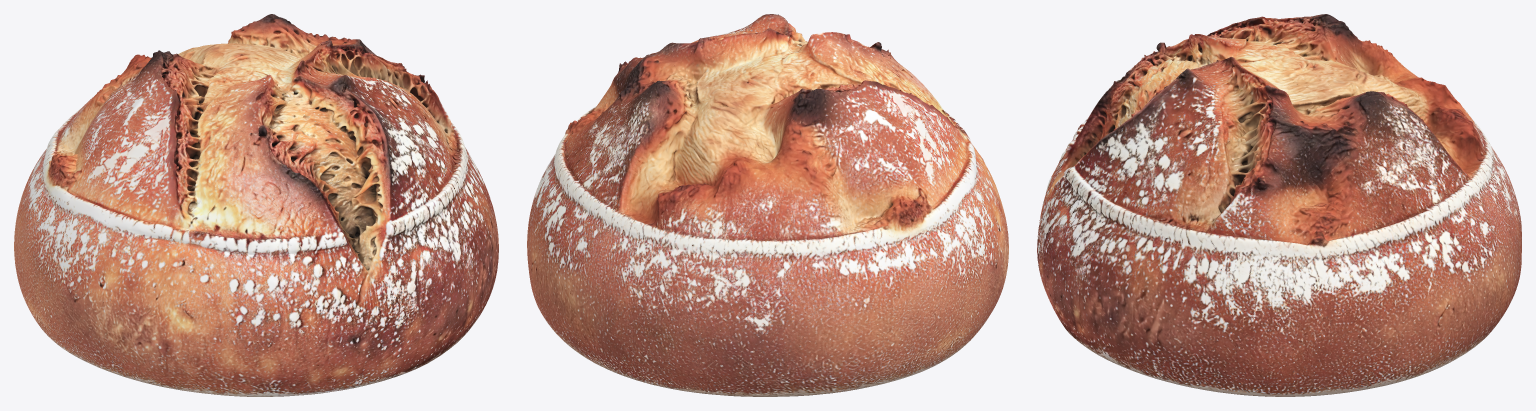
The model's file is bread.glb.
The picture shows the model from 3 angles, left to right: view 1: azimuth 30°, elevation 25°; view 2: azimuth 150°, elevation 25°; view 3: azimuth 270°, elevation 25°; orthographic projection.
Visible parts, largest first — view 1: model; view 2: model; view 3: model.
Boxes of the visible parts, box(x1,y1,x2,y2) form: model: box(14, 14, 498, 396); model: box(527, 14, 1008, 396); model: box(1037, 14, 1521, 396).
Bounding box in the file's own units: 1.9 × 1.12 × 1.9.
Materials: 1 (1 with a texture image).
